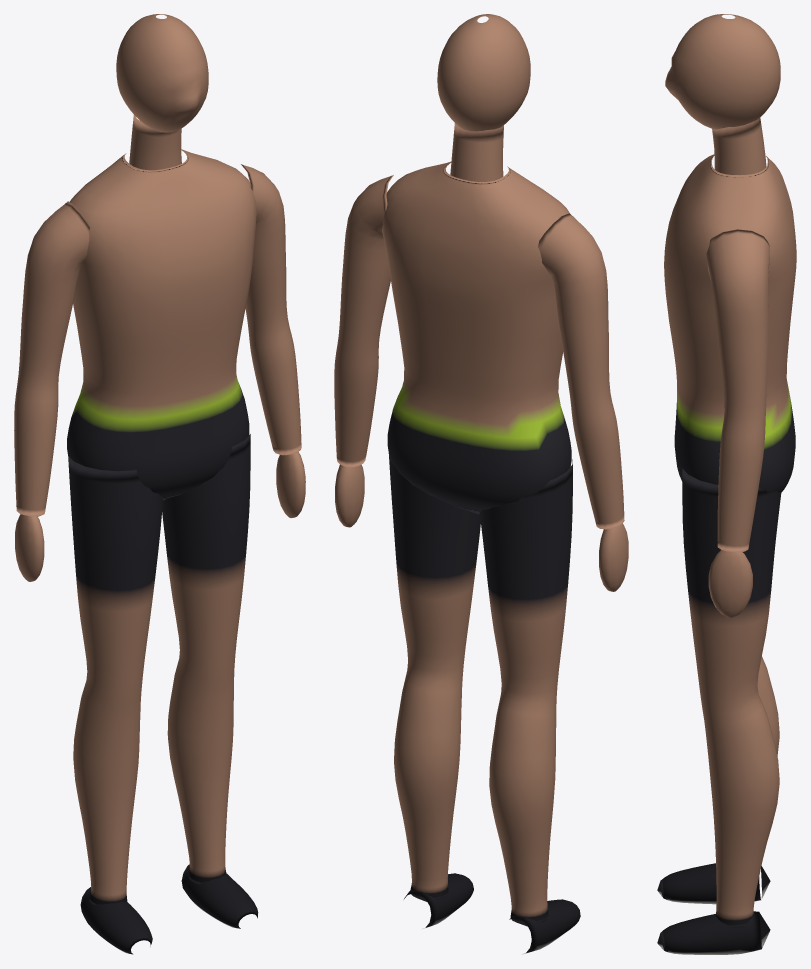
The model's file is prototype-avatar.glb.
3 renders of one model, left to right at view 1: azimuth 30°, elevation 25°; view 2: azimuth 150°, elevation 25°; view 3: azimuth 270°, elevation 25°, orthographic.
Visible parts, largest first — view 1: FitaiaPrototypeAvatar; view 2: FitaiaPrototypeAvatar; view 3: FitaiaPrototypeAvatar.
Boxes of the visible parts, x1,y1,x2,y2 form: FitaiaPrototypeAvatar: (14,14,305,954); FitaiaPrototypeAvatar: (334,14,628,954); FitaiaPrototypeAvatar: (657,14,796,954).
Bounding box in the file's own units: 0.5854 × 1.8 × 0.249.
